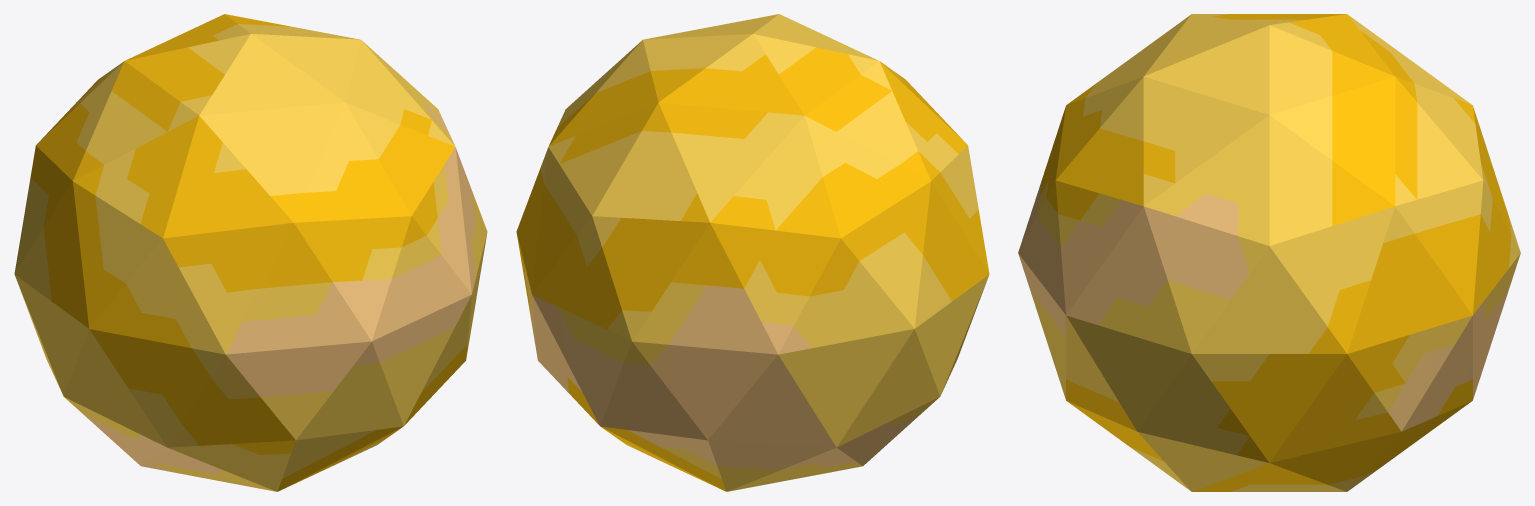
The model's file is sun.fbx.
3 renders of one model, left to right at view 1: azimuth 30°, elevation 25°; view 2: azimuth 150°, elevation 25°; view 3: azimuth 270°, elevation 25°, orthographic. The views are drawn at different scales.
Parts seen in each view (by area): view 1: Icosphere; view 2: Icosphere; view 3: Icosphere.
Boxes of the visible parts, left/top/right/bottom form: Icosphere: left=14, top=14, right=487, bottom=491; Icosphere: left=516, top=14, right=989, bottom=491; Icosphere: left=1018, top=14, right=1520, bottom=491.
Size of the model in its own units: 190 by 200 by 200.
